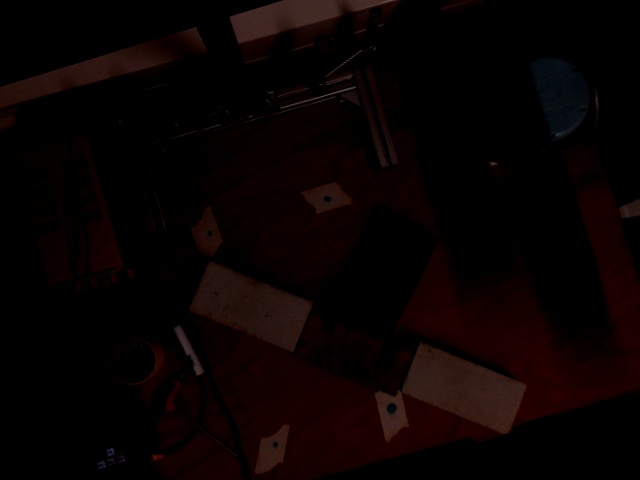brick: (342, 213, 437, 337), (295, 310, 414, 397), (189, 262, 308, 348), (402, 345, 521, 431)
